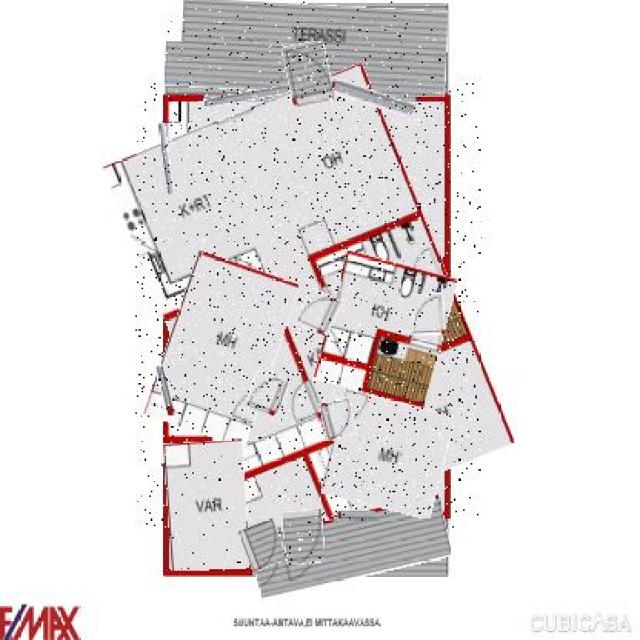door: (285, 42, 332, 106), (283, 509, 325, 565), (242, 520, 284, 569), (300, 291, 340, 334), (248, 374, 286, 414), (322, 398, 356, 438), (414, 294, 444, 335)
window: (330, 84, 416, 110), (203, 89, 288, 103), (160, 123, 172, 194), (158, 364, 174, 416), (337, 511, 375, 520)
zone: (136, 81, 482, 528), (165, 0, 446, 94), (156, 257, 286, 441), (322, 257, 451, 401), (251, 505, 449, 589), (326, 395, 448, 514), (166, 440, 248, 571)
